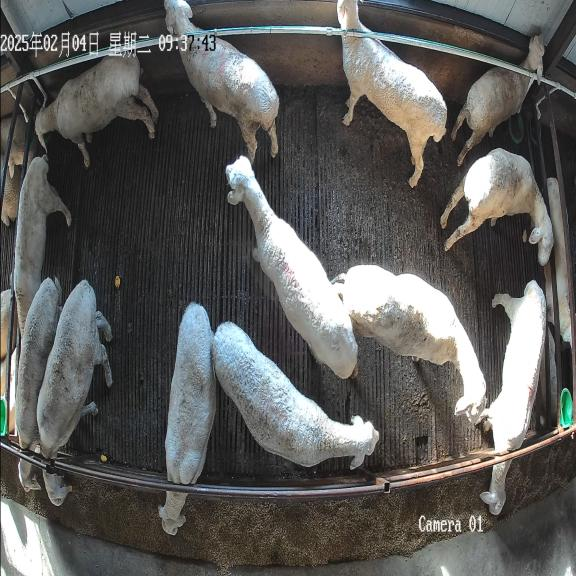drinking: (36, 53, 159, 167)
eating: (37, 280, 112, 508), (483, 279, 546, 517), (160, 303, 216, 541), (15, 278, 62, 496)
stand: (225, 155, 357, 379), (331, 265, 486, 424), (212, 322, 378, 469), (337, 0, 447, 188), (164, 0, 279, 161), (440, 148, 554, 266), (451, 34, 544, 166), (14, 154, 71, 335)
